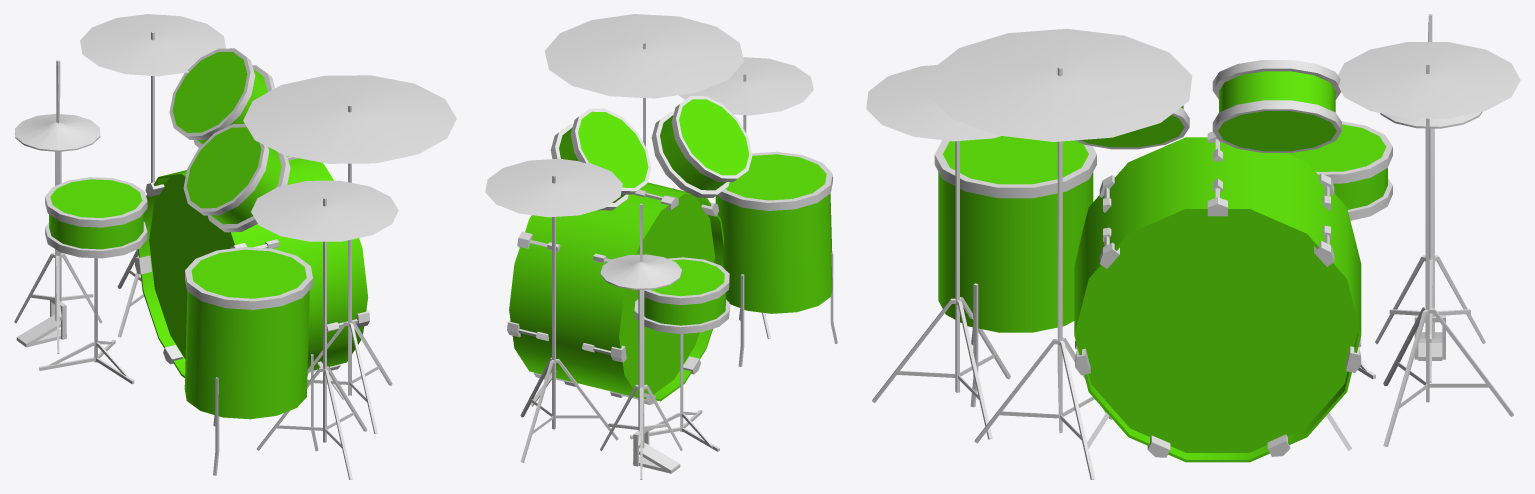
The model's file is obj_DrumKit.fbx.
The picture shows the model from 3 angles, left to right: view 1: azimuth 30°, elevation 25°; view 2: azimuth 150°, elevation 25°; view 3: azimuth 270°, elevation 25°; orthographic projection. The views are drawn at different scales.
Parts seen in each view (by area): view 1: obj_Drum_Kick, obj_Drum_Tom.001, obj_Drum_Tom.004, obj_Drum_Tom.002, obj_Drum_Tom.005, obj_Drum_Tom.003, obj_Drum_Tom.006, Cube.018; view 2: obj_Drum_Kick, obj_Drum_Tom.001, obj_Drum_Tom.004, obj_Drum_Tom.003, obj_Drum_Tom.005, obj_Drum_Tom.006, obj_Drum_Tom.002, Cube.018; view 3: obj_Drum_Kick, obj_Drum_Tom.004, obj_Drum_Tom.001, obj_Drum_Tom.003, obj_Drum_Tom.002, obj_Drum_Tom.005, obj_Drum_Tom.006, Cube.018.
Part boxes in pixels (box(x1,y1,x2,y2)): obj_Drum_Kick: box(137, 48, 368, 399); obj_Drum_Tom.001: box(184, 247, 318, 475); obj_Drum_Tom.004: box(243, 75, 456, 433); obj_Drum_Tom.002: box(251, 180, 398, 479); obj_Drum_Tom.005: box(39, 177, 147, 384); obj_Drum_Tom.003: box(80, 14, 225, 337); obj_Drum_Tom.006: box(14, 60, 102, 353); Cube.018: box(134, 156, 369, 376); obj_Drum_Kick: box(509, 96, 752, 406); obj_Drum_Tom.001: box(715, 151, 837, 366); obj_Drum_Tom.004: box(544, 14, 743, 146); obj_Drum_Tom.003: box(485, 158, 622, 462); obj_Drum_Tom.005: box(630, 257, 729, 451); obj_Drum_Tom.006: box(600, 203, 682, 479); obj_Drum_Tom.002: box(679, 57, 813, 338); Cube.018: box(507, 189, 718, 404); obj_Drum_Kick: box(1074, 60, 1361, 462); obj_Drum_Tom.004: box(928, 28, 1192, 479); obj_Drum_Tom.001: box(934, 136, 1096, 407); obj_Drum_Tom.003: box(1338, 42, 1520, 446); obj_Drum_Tom.002: box(866, 65, 1010, 439); obj_Drum_Tom.005: box(1286, 121, 1392, 379); obj_Drum_Tom.006: box(1375, 14, 1485, 382); Cube.018: box(1075, 131, 1361, 457).
Bounding box in the file's own units: 1.15 × 1.16 × 1.8.
